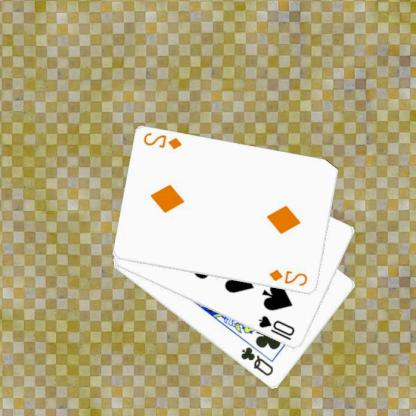10S: (257, 313, 298, 342)
2D: (268, 267, 311, 288), (142, 130, 185, 151)
QC: (240, 344, 277, 378)
